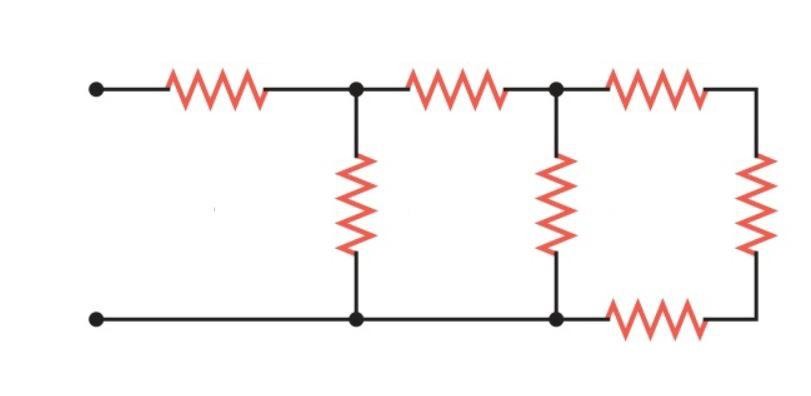resistor: (149, 43, 287, 124), (723, 124, 795, 265), (524, 124, 596, 263), (561, 283, 722, 344), (586, 49, 723, 119), (385, 54, 521, 116), (321, 136, 390, 258)
